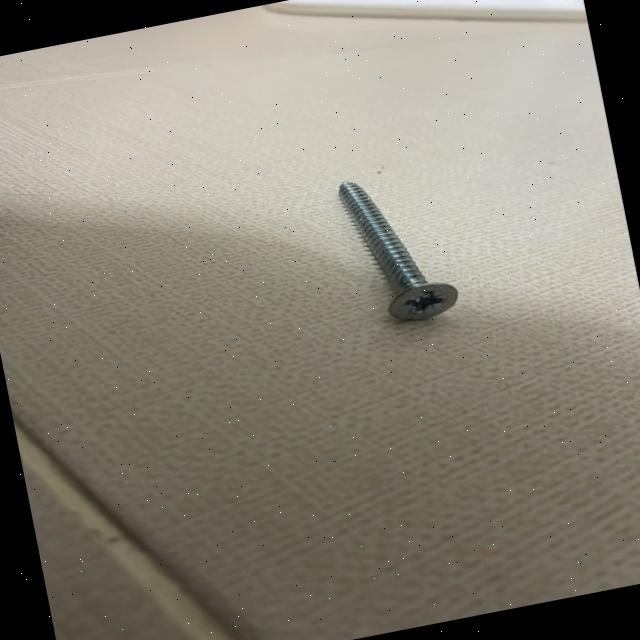Pozidriv: (392, 278, 466, 331)
